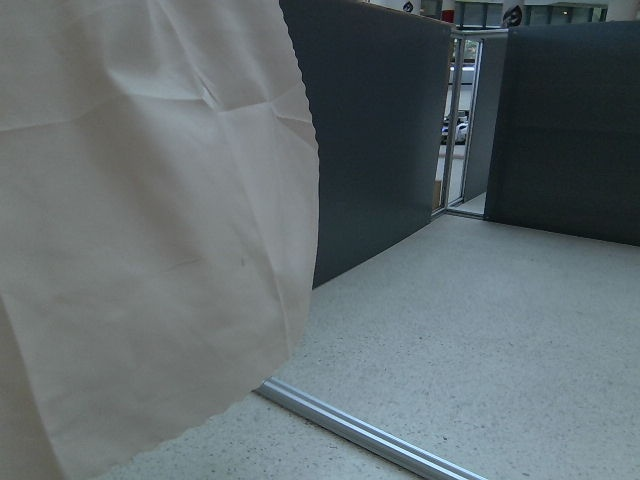curtain: (0, 0, 320, 432)
